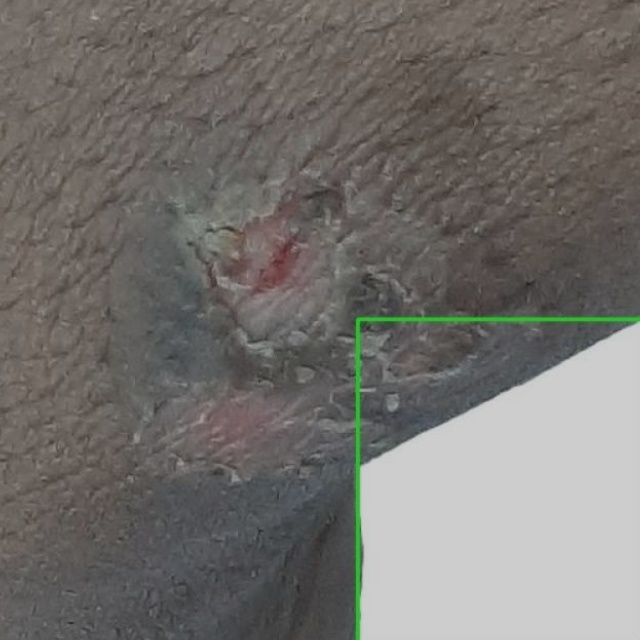Contact Dermatitis: (358, 319, 639, 639)
